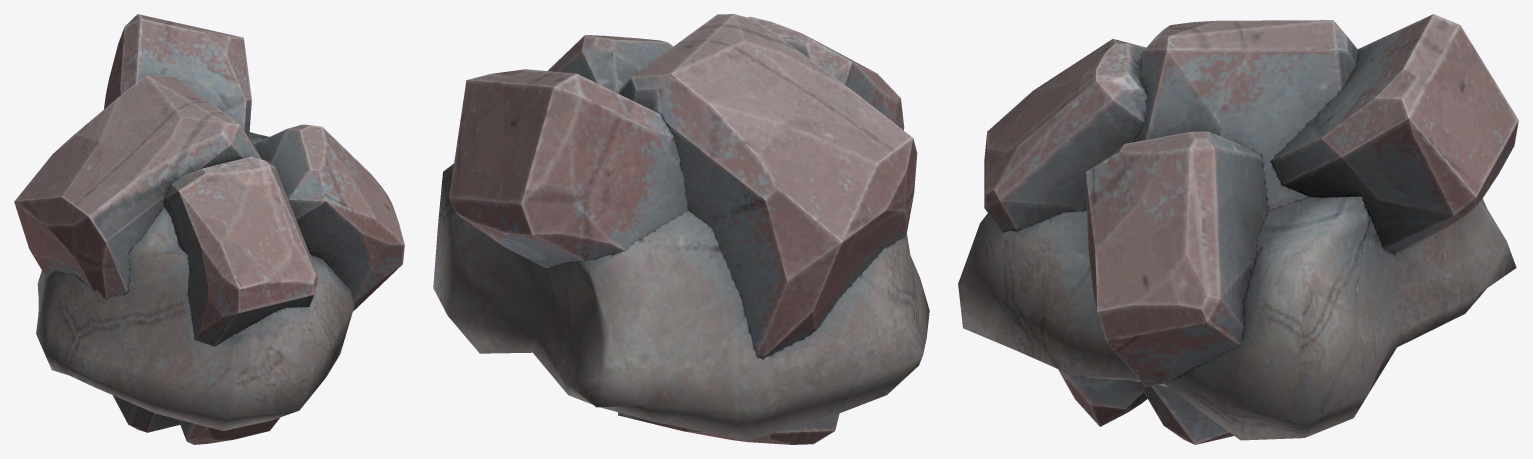
File: IronOreCluster.glb
3 renders of one model, left to right at view 1: azimuth 30°, elevation 25°; view 2: azimuth 150°, elevation 25°; view 3: azimuth 270°, elevation 25°, orthographic. The views are drawn at different scales.
Parts seen in each view (by area): view 1: IronOreCluster; view 2: IronOreCluster; view 3: IronOreCluster.
Part boxes in pixels (<box>): IronOreCluster: <box>14,14,404,444</box>; IronOreCluster: <box>433,14,929,444</box>; IronOreCluster: <box>958,14,1518,444</box>.
Bounding box in the file's own units: 0.6609 × 0.6053 × 0.732.
1 material, 1 textured.
